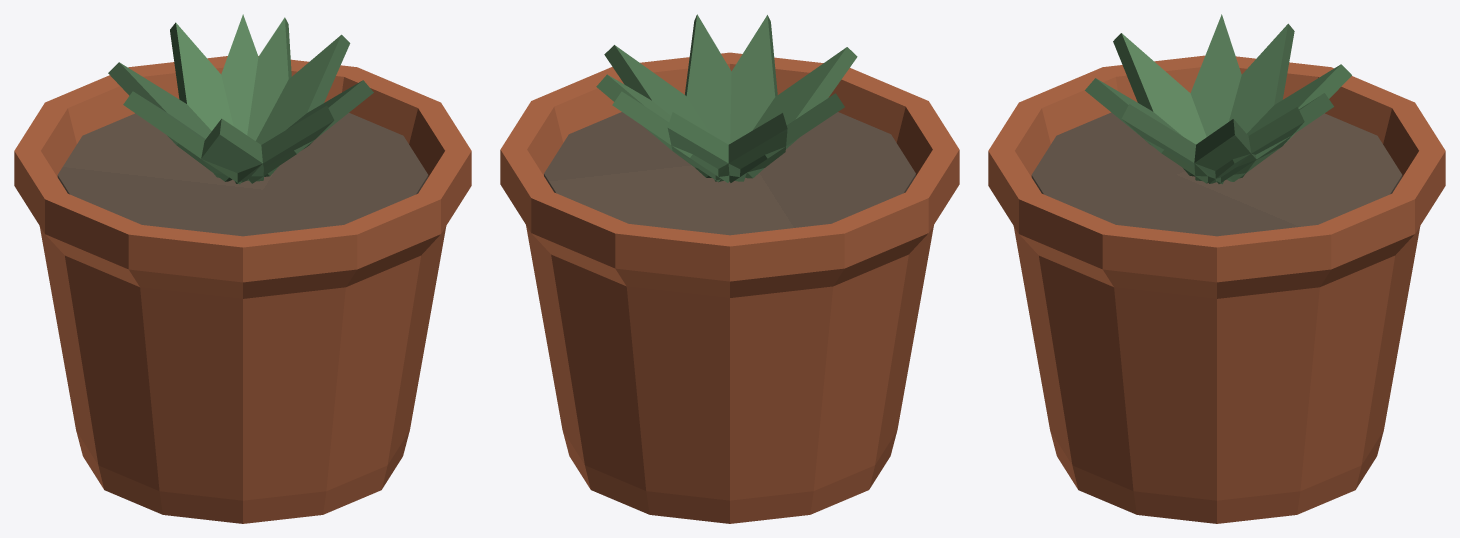
File: haworthia.glb
The picture shows the model from 3 angles, left to right: view 1: azimuth 30°, elevation 25°; view 2: azimuth 150°, elevation 25°; view 3: azimuth 270°, elevation 25°; orthographic projection.
Visible parts, largest first — view 1: haworthia/review-terra-vessel, haworthia/review-rooted-soil, haworthia/leaf-006, haworthia/leaf-004, haworthia/leaf-001, haworthia/leaf-009, haworthia/leaf-005, haworthia/leaf-007, haworthia/leaf-008, haworthia/leaf-002, haworthia/leaf-003; view 2: haworthia/review-terra-vessel, haworthia/review-rooted-soil, haworthia/leaf-003, haworthia/leaf-008, haworthia/leaf-005, haworthia/leaf-006, haworthia/leaf-007, haworthia/leaf-004, haworthia/leaf-009, haworthia/leaf-002, haworthia/leaf-001; view 3: haworthia/review-terra-vessel, haworthia/review-rooted-soil, haworthia/leaf-005, haworthia/leaf-002, haworthia/leaf-007, haworthia/leaf-006, haworthia/leaf-004, haworthia/leaf-003, haworthia/leaf-001, haworthia/leaf-008, haworthia/leaf-009.
Part boxes in pixels (<box>): haworthia/review-terra-vessel: <box>14,56,471,523</box>; haworthia/review-rooted-soil: <box>57,113,428,236</box>; haworthia/leaf-006: <box>256,34,350,176</box>; haworthia/leaf-004: <box>170,22,233,130</box>; haworthia/leaf-001: <box>247,17,291,140</box>; haworthia/leaf-009: <box>221,14,258,135</box>; haworthia/leaf-005: <box>201,118,264,181</box>; haworthia/leaf-007: <box>108,62,232,181</box>; haworthia/leaf-008: <box>235,105,334,183</box>; haworthia/leaf-002: <box>123,91,241,184</box>; haworthia/leaf-003: <box>248,80,373,183</box>; haworthia/review-terra-vessel: <box>500,52,959,523</box>; haworthia/review-rooted-soil: <box>544,112,915,235</box>; haworthia/leaf-003: <box>685,14,731,144</box>; haworthia/leaf-008: <box>730,15,777,143</box>; haworthia/leaf-005: <box>745,47,857,178</box>; haworthia/leaf-006: <box>604,45,711,177</box>; haworthia/leaf-007: <box>714,113,787,181</box>; haworthia/leaf-004: <box>667,112,746,181</box>; haworthia/leaf-009: <box>612,91,729,182</box>; haworthia/leaf-002: <box>729,93,844,182</box>; haworthia/leaf-001: <box>596,74,720,182</box>; haworthia/review-terra-vessel: <box>988,55,1445,523</box>; haworthia/review-rooted-soil: <box>1031,112,1402,236</box>; haworthia/leaf-005: <box>1113,33,1206,176</box>; haworthia/leaf-002: <box>1190,14,1241,136</box>; haworthia/leaf-007: <box>1229,23,1294,133</box>; haworthia/leaf-006: <box>1194,119,1256,180</box>; haworthia/leaf-004: <box>1227,64,1351,181</box>; haworthia/leaf-003: <box>1121,104,1223,184</box>; haworthia/leaf-001: <box>1208,107,1304,183</box>; haworthia/leaf-008: <box>1085,78,1208,183</box>; haworthia/leaf-009: <box>1216,93,1333,183</box>.
Bounding box in the file's own units: 0.19 × 0.1786 × 0.19.
3 materials, 3 textured.
